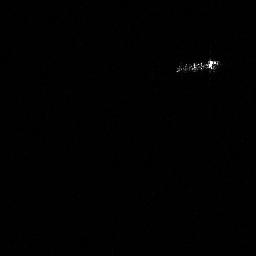ship: (174, 57, 222, 75)
